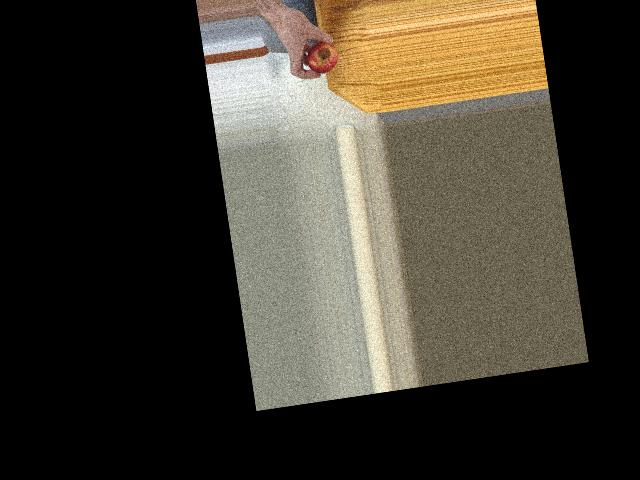apple: (304, 34, 340, 75)
